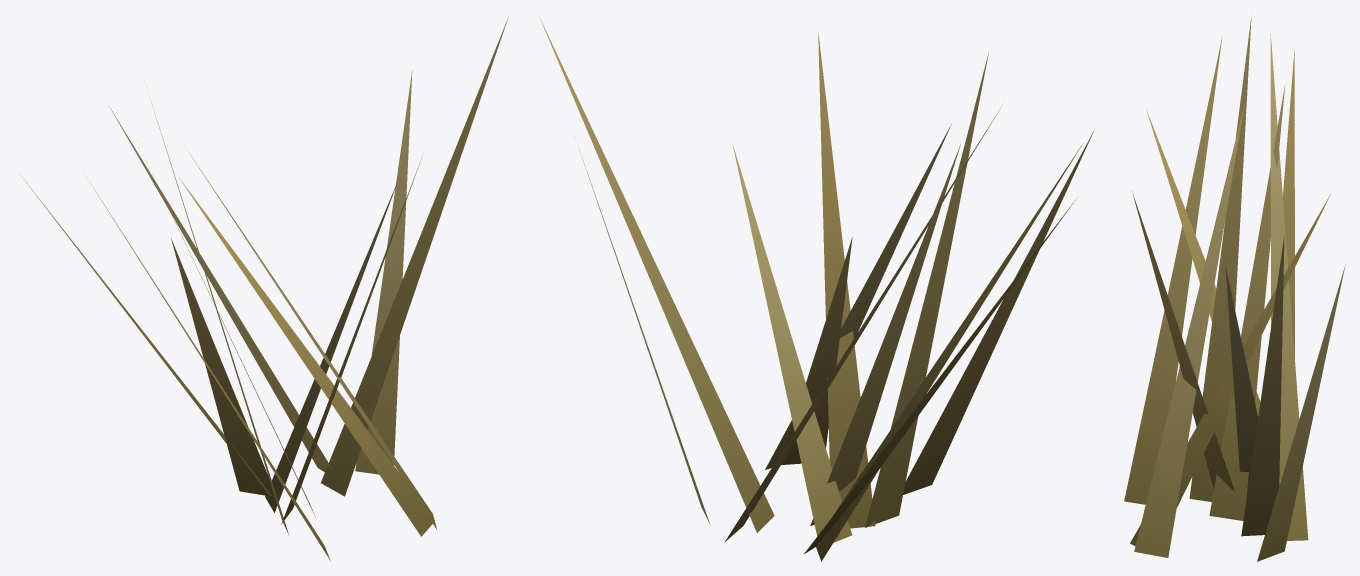
Rendered from env_sav_grass.glb.
3 views of the same model, side by side, from view 1: azimuth 30°, elevation 25°; view 2: azimuth 150°, elevation 25°; view 3: azimuth 270°, elevation 25° (orthographic). The views are drawn at different scales.
Parts seen in each view (by area): view 1: env_sav_grass; view 2: env_sav_grass; view 3: env_sav_grass.
Boxes of the visible parts, x1=… form: env_sav_grass: x1=19, y1=17, x2=508, y2=560; env_sav_grass: x1=539, y1=17, x2=1094, y2=561; env_sav_grass: x1=1124, y1=15, x2=1345, y2=561.
Size of the model in its own units: 0.9821 by 0.8987 by 0.4169.
